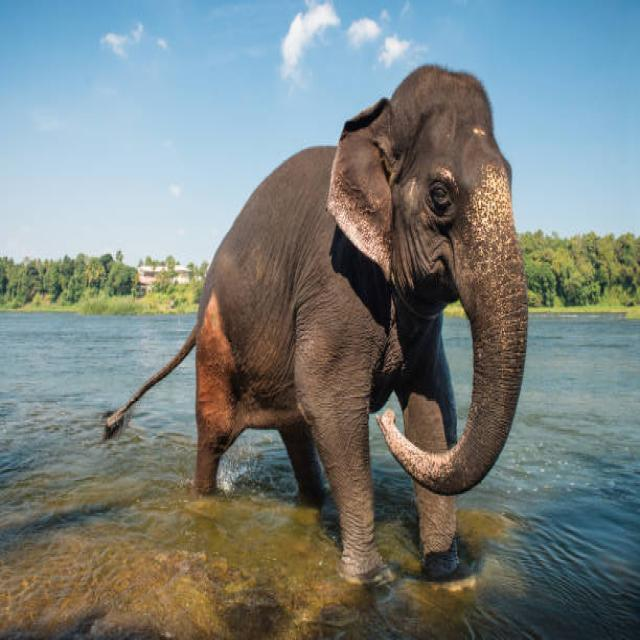Elephant: (153, 67, 536, 597)
